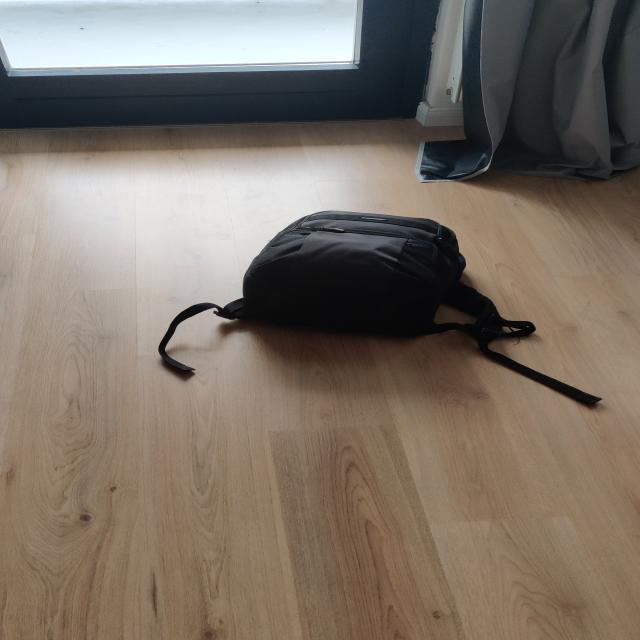backpack: (221, 206, 486, 342)
